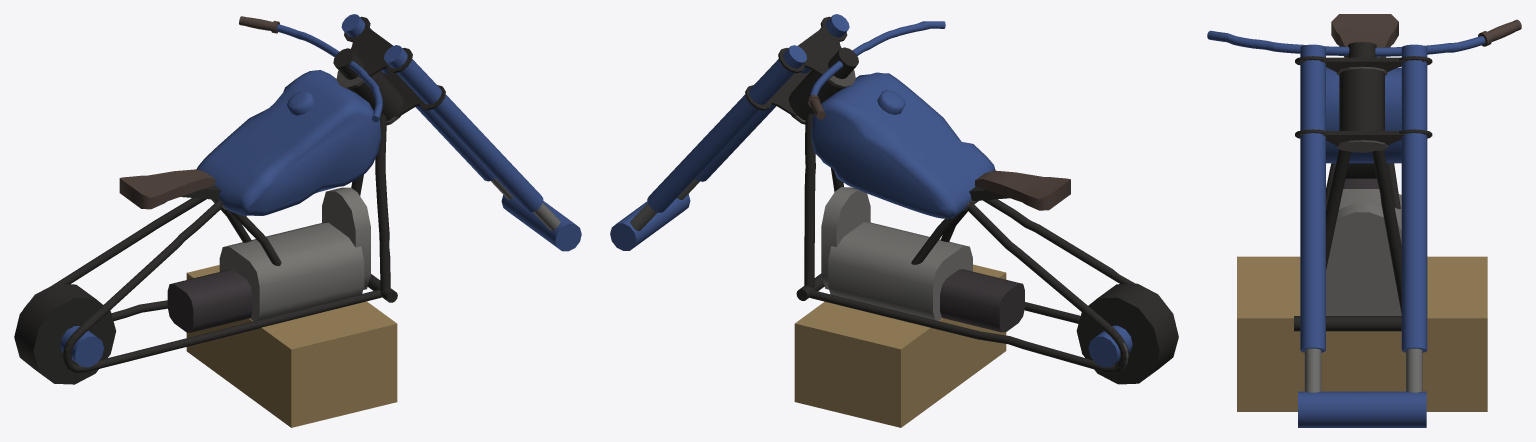
File: moto_2.gltf
3 views of the same model, side by side, from view 1: azimuth 30°, elevation 25°; view 2: azimuth 150°, elevation 25°; view 3: azimuth 270°, elevation 25° (orthographic). The views are drawn at different scales.
Visible parts, largest first — view 1: Cube.014, Surface.001, Cube.007, Cylinder.033, Cylinder.044, Cube.011, Cylinder.036, Cube.013, Cube.008, Cylinder.035, Cylinder.039, Cylinder.061 (+9 smaller); view 2: Cube.014, Surface.001, Cube.007, Cylinder.033, Cylinder.048, Cube.011, Cylinder.041, Cube.013, Cube.008, Cylinder.040, Cylinder.042, Cylinder.061 (+9 smaller); view 3: Cube.014, Cylinder.048, Cylinder.044, Cube.008, Cylinder.061, Cylinder.034, Surface.001, Cube.013, Cylinder.057, Cylinder.040, Cylinder.037, Cylinder.035 (+10 smaller).
Part boxes in pixels (left/top/right/bottom): Cube.014: left=186, top=265, right=397, bottom=427; Surface.001: left=196, top=70, right=381, bottom=215; Cube.007: left=219, top=222, right=364, bottom=320; Cylinder.033: left=14, top=284, right=116, bottom=384; Cylinder.044: left=384, top=45, right=543, bottom=212; Cube.011: left=167, top=269, right=252, bottom=332; Cylinder.036: left=86, top=290, right=381, bottom=372; Cube.013: left=119, top=169, right=215, bottom=209; Cube.008: left=322, top=187, right=370, bottom=289; Cylinder.035: left=375, top=113, right=390, bottom=290; Cylinder.039: left=82, top=199, right=221, bottom=330; Cylinder.061: left=501, top=195, right=581, bottom=251; Cube.014: left=794, top=264, right=1006, bottom=427; Surface.001: left=811, top=72, right=995, bottom=218; Cube.007: left=828, top=222, right=972, bottom=320; Cylinder.033: left=1076, top=283, right=1178, bottom=384; Cylinder.048: left=647, top=45, right=806, bottom=212; Cube.011: left=940, top=269, right=1024, bottom=332; Cylinder.041: left=809, top=290, right=1106, bottom=372; Cube.013: left=975, top=170, right=1070, bottom=210; Cube.008: left=821, top=187, right=870, bottom=289; Cylinder.040: left=804, top=113, right=815, bottom=288; Cylinder.042: left=967, top=201, right=1109, bottom=331; Cylinder.061: left=610, top=194, right=690, bottom=250; Cube.014: left=1237, top=256, right=1487, bottom=411; Cylinder.048: left=1401, top=44, right=1427, bottom=352; Cylinder.044: left=1300, top=44, right=1325, bottom=352; Cube.008: left=1326, top=203, right=1401, bottom=315; Cylinder.061: left=1298, top=391, right=1426, bottom=427; Cylinder.034: left=1339, top=69, right=1384, bottom=130; Surface.001: left=1326, top=67, right=1401, bottom=163; Cube.013: left=1331, top=14, right=1398, bottom=57; Cylinder.057: left=1207, top=30, right=1485, bottom=56; Cylinder.040: left=1372, top=150, right=1401, bottom=313; Cylinder.037: left=1294, top=316, right=1401, bottom=331; Cylinder.035: left=1326, top=149, right=1351, bottom=269.
Bounding box in the file's own units: 5.85 × 3.41 × 2.51.
